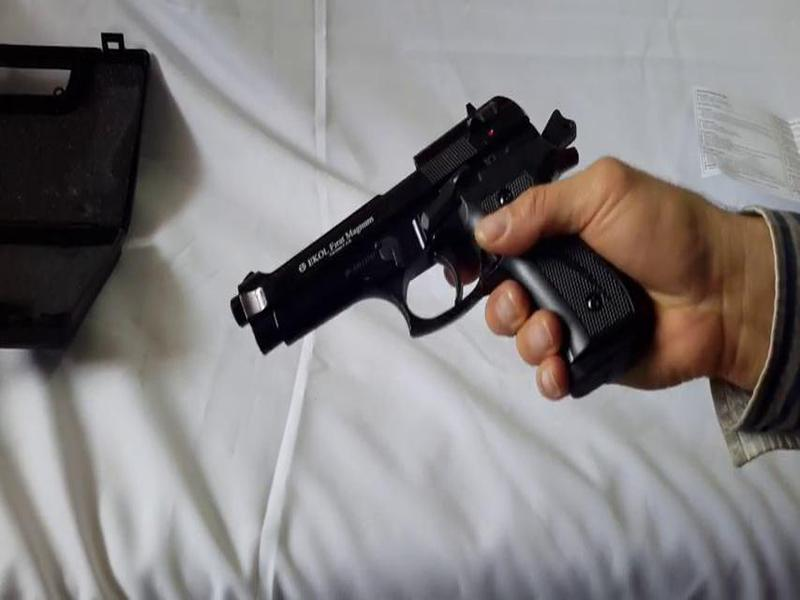Pistola: (218, 88, 675, 420)
